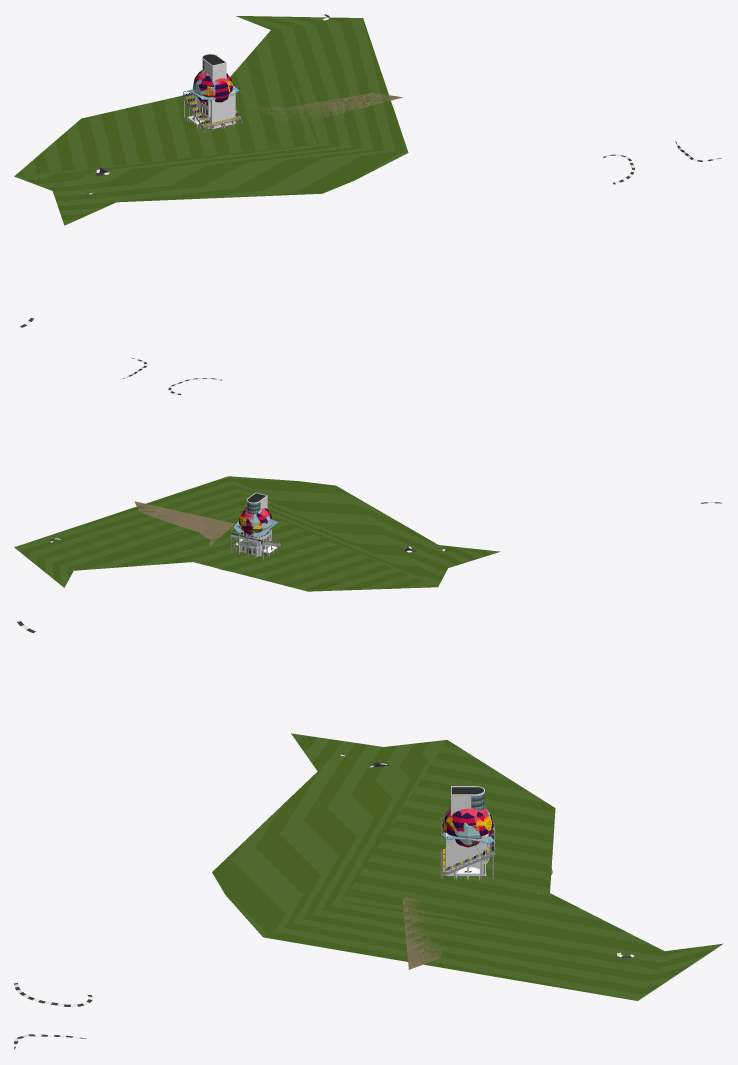
The model's file is kit.glb.
3 renders of one model, top to bottom at view 1: azimuth 30°, elevation 25°; view 2: azimuth 150°, elevation 25°; view 3: azimuth 270°, elevation 25°, orthographic. The views are drawn at different scales.
Parts seen in each view (by area): view 1: tex_grass, tex_gravel, paddock, stand_large, tower, balloon_d; view 2: tex_grass, tex_gravel, stand_large, paddock; view 3: tex_grass, tex_gravel, paddock, stand_large, tower, tex_road, balloon_d.
Part boxes in pixels (x1,y1,x2,y2): tex_grass: [14, 16, 408, 225]; tex_gravel: [182, 93, 402, 126]; paddock: [195, 90, 235, 129]; stand_large: [183, 85, 242, 132]; tower: [202, 53, 226, 82]; balloon_d: [193, 70, 232, 103]; tex_grass: [14, 476, 500, 591]; tex_gravel: [134, 501, 234, 570]; stand_large: [230, 519, 280, 560]; paddock: [237, 524, 271, 556]; tex_grass: [212, 733, 723, 1000]; tex_gravel: [402, 868, 552, 969]; paddock: [446, 833, 489, 875]; stand_large: [440, 817, 495, 879]; tower: [451, 786, 484, 815]; tex_road: [14, 620, 634, 1049]; balloon_d: [442, 811, 493, 847].
Bounding box in the file's own units: 298 × 25 × 208.
Materials: 10 (9 with a texture image).
